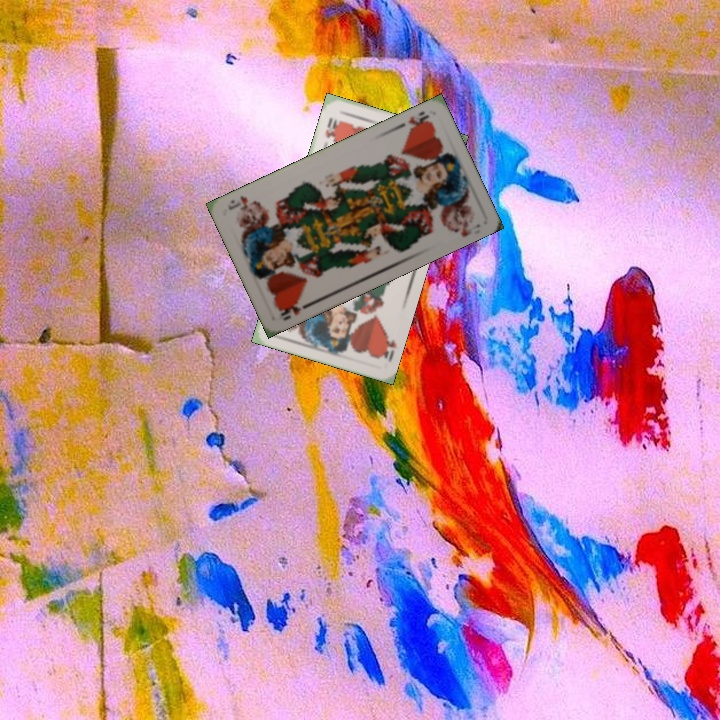HO: (394, 107, 435, 134), (275, 298, 314, 323), (375, 328, 399, 362), (321, 113, 342, 144)
